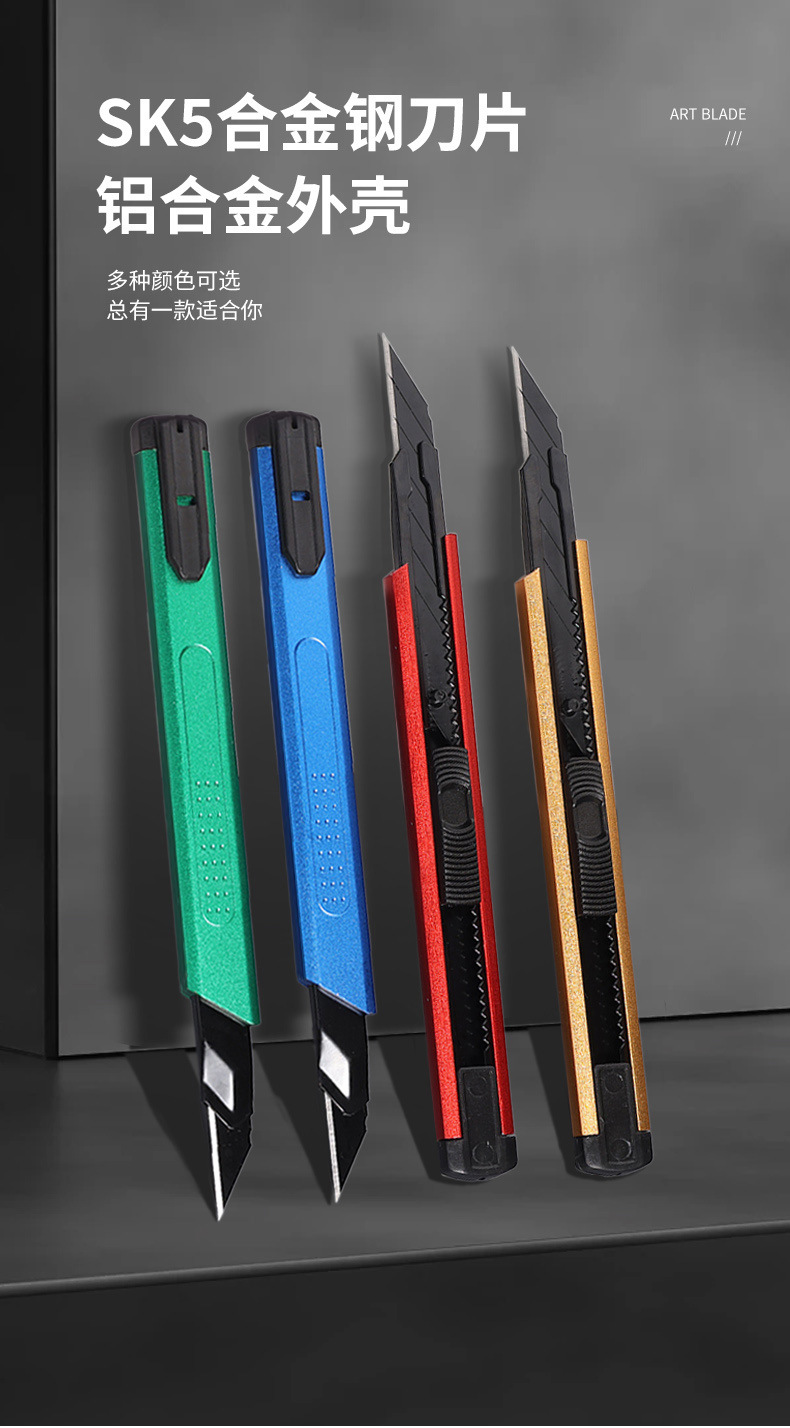cutter: (508, 340, 659, 1192), (380, 328, 519, 1189), (239, 412, 376, 1209), (128, 406, 256, 1226)
